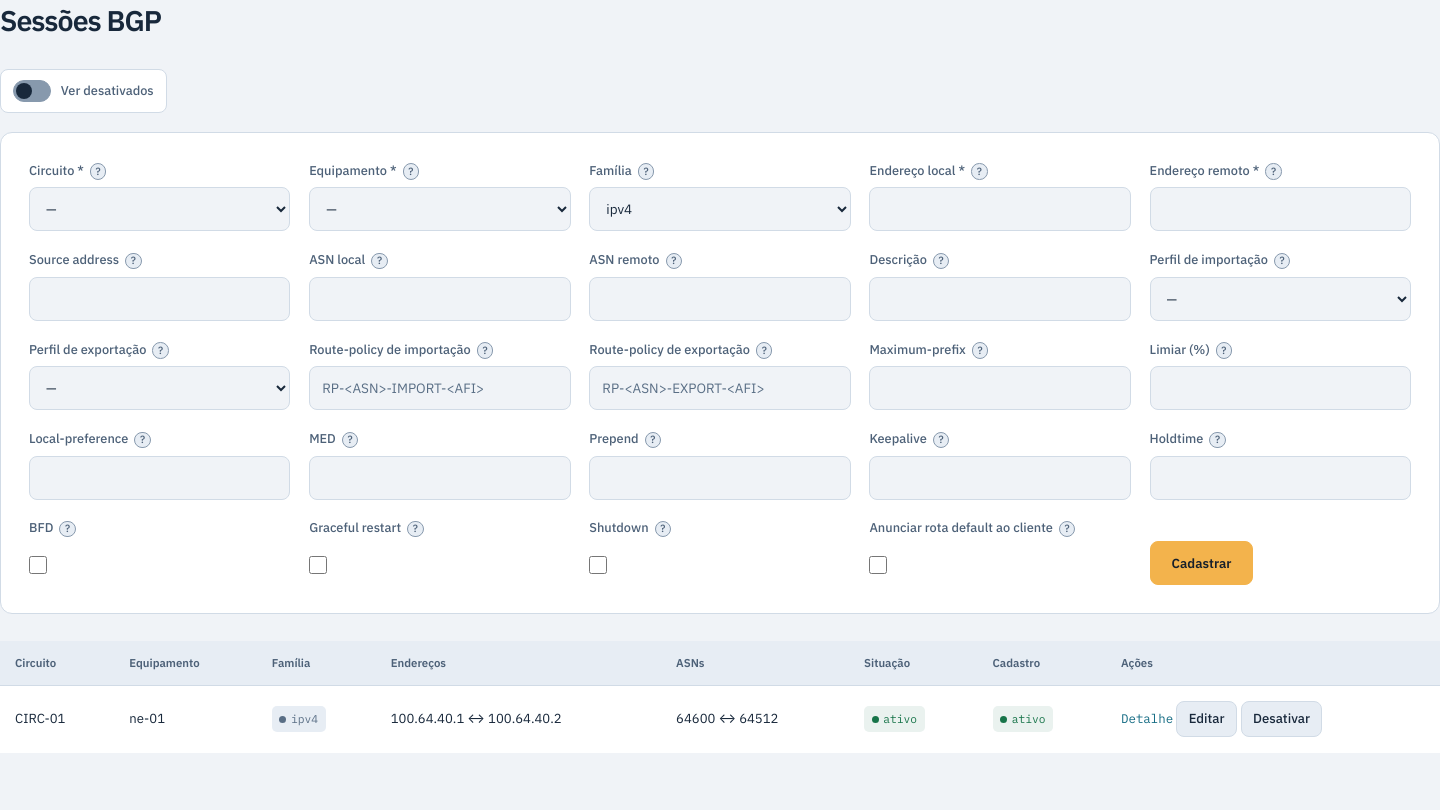
Scenario: BgpSessions › o nome da route-policy lido do equipamento aparece no diálogo de edição
Expected: the text "100.64.40.1 ↔ 100.64.40.2" is shown, [376, 685, 661, 753]
Click the button "Editar". click: coordinates (1207, 719)
box: [1176, 701, 1237, 737]
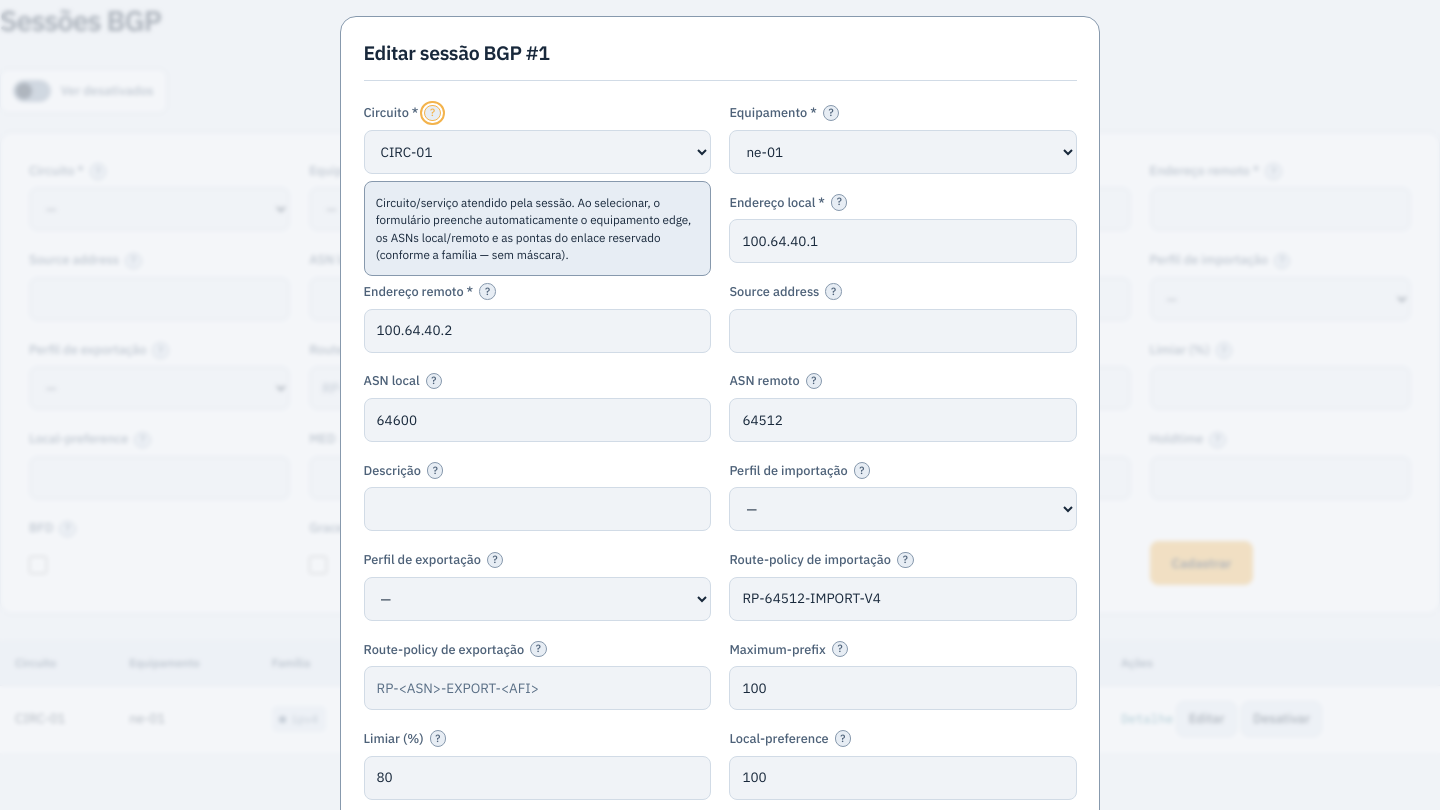
Now the field labelled "Route-policy de importação ?" holds "RP-64512-IMPORT-V4", box [729, 577, 1076, 621]
Now the field labelled "Route-policy de exportação ?" is empty, box [364, 666, 711, 710]
